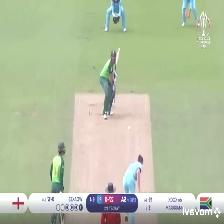ball: (124, 123, 133, 131)
batsman: (97, 45, 125, 123)
